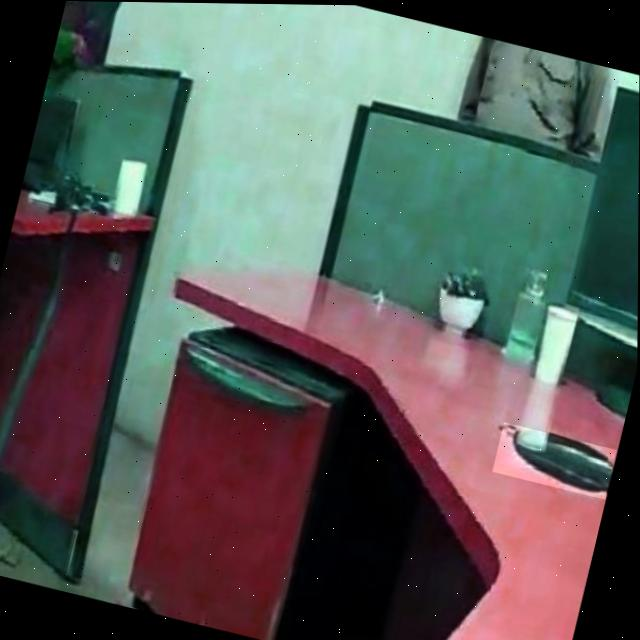spillage: (503, 427, 614, 493)
